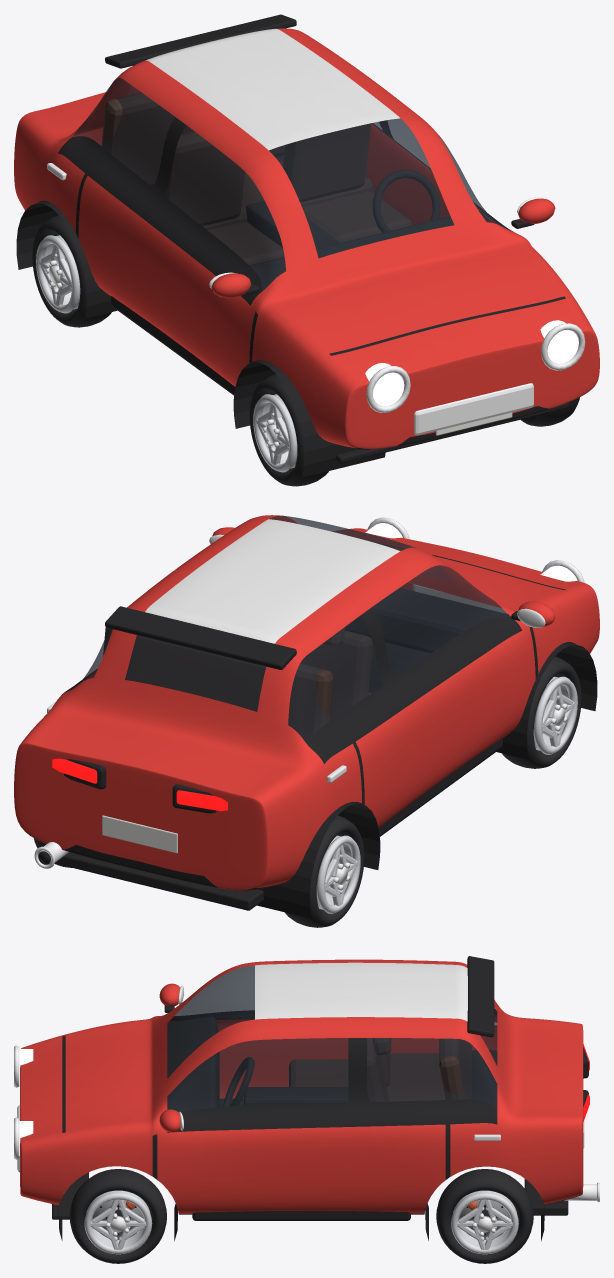
Rendered from pixie.glb.
3 renders of one model, top to bottom at view 1: azimuth 30°, elevation 25°; view 2: azimuth 150°, elevation 25°; view 3: azimuth 270°, elevation 25°, orthographic. The views are drawn at different scales.
Visible parts, largest first — view 1: body, wheel_rr, wheel_fr, wheel_fl; view 2: body, wheel_fr, wheel_rr; view 3: body, wheel_fl, wheel_rl.
Part boxes in pixels (left/top/right/bottom): body: left=14, top=14, right=599, bottom=477; wheel_rr: left=32, top=215, right=111, bottom=327; wheel_fr: left=249, top=374, right=328, bottom=486; wheel_fl: left=520, top=397, right=579, bottom=426; body: left=14, top=515, right=599, bottom=918; wheel_fr: left=502, top=656, right=581, bottom=768; wheel_rr: left=285, top=815, right=364, bottom=927; body: left=14, top=956, right=599, bottom=1241; wheel_fl: left=69, top=1169, right=166, bottom=1263; wheel_rl: left=436, top=1169, right=533, bottom=1263.
Bounding box in the file's own units: 1.98 × 1.46 × 3.48.
